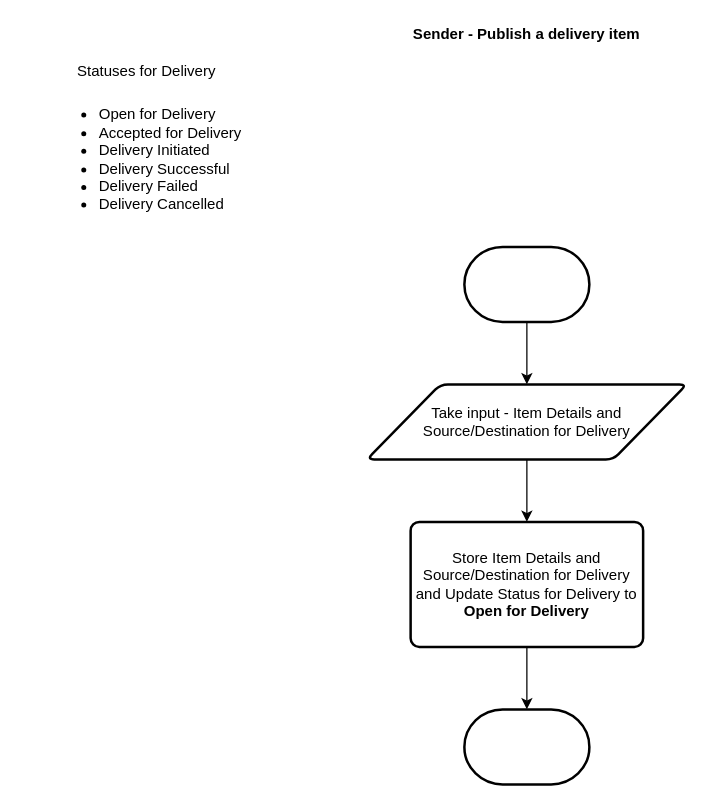
The diagram is 709 pixels wide and 806 high, and some of its shapes have lost their labels. The centre of each missing label's shape, as x and y in pixels:
"End" goes at (x=526, y=746).
"Start" goes at (x=526, y=283).
